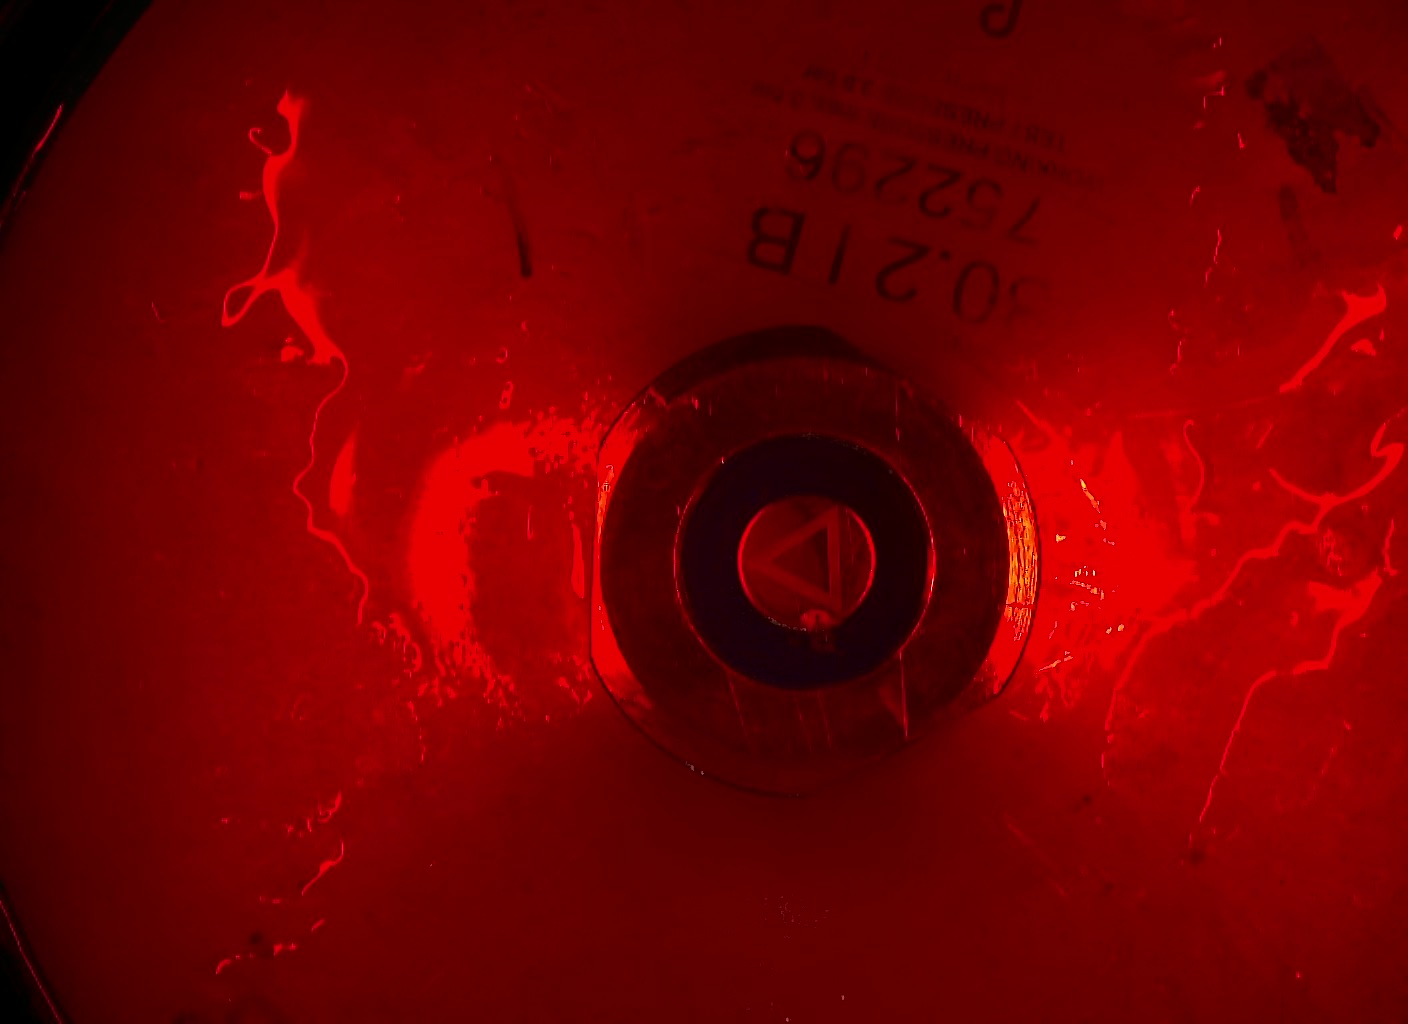pena: (788, 602, 842, 658)
